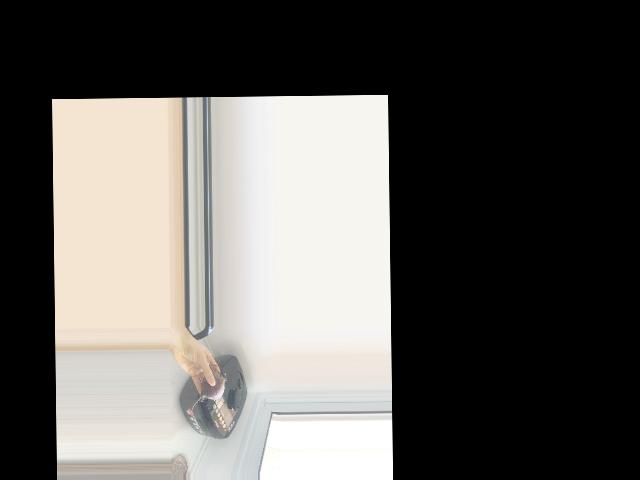beet: (190, 365, 227, 410)
